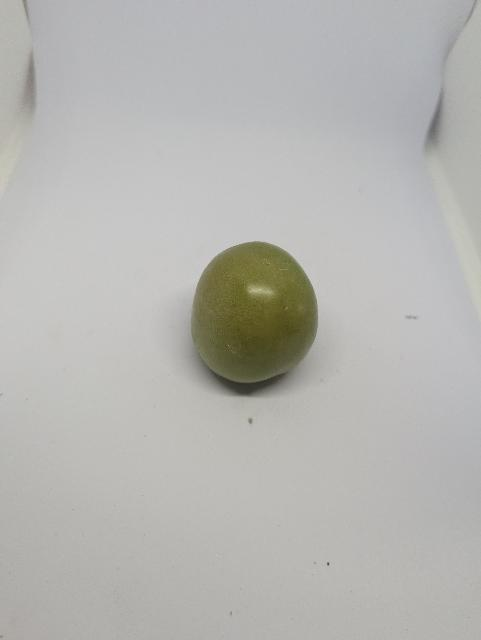green: (176, 240, 322, 396)
